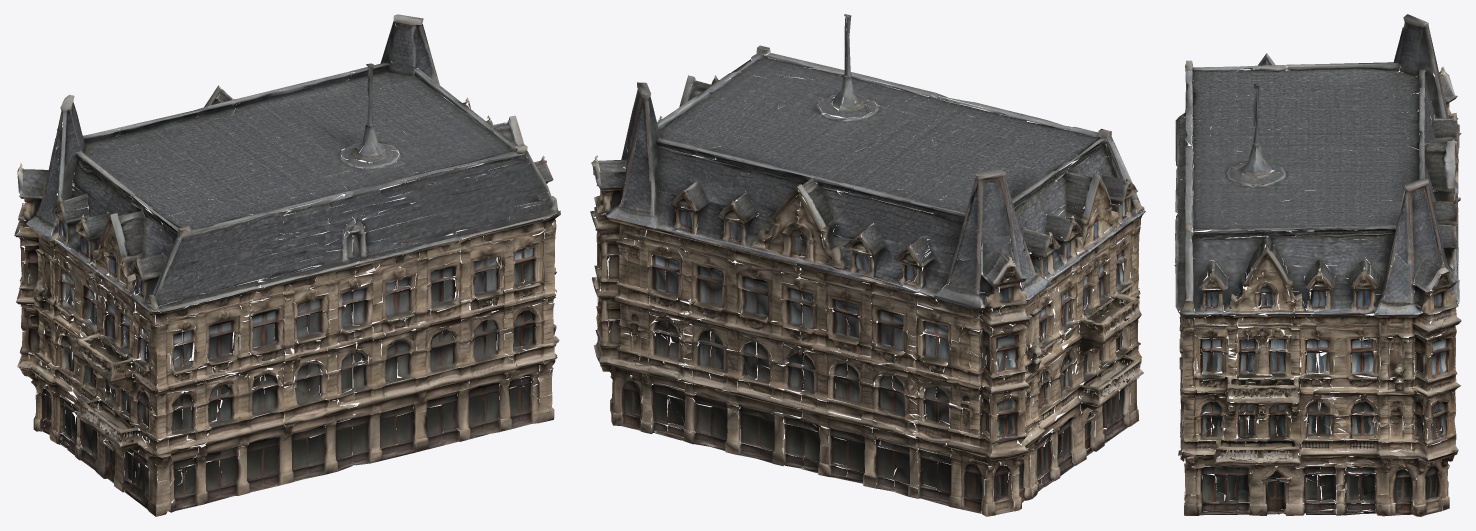
File: eckhaus32.glb
The picture shows the model from 3 angles, left to right: view 1: azimuth 30°, elevation 25°; view 2: azimuth 150°, elevation 25°; view 3: azimuth 270°, elevation 25°; orthographic projection. The views are drawn at different scales.
Visible parts, largest first — view 1: tripo_node_92e6e134-a9f3-425e-b006-a0dd317af142; view 2: tripo_node_92e6e134-a9f3-425e-b006-a0dd317af142; view 3: tripo_node_92e6e134-a9f3-425e-b006-a0dd317af142.
Part boxes in pixels (x1,y1,x2,y2): tripo_node_92e6e134-a9f3-425e-b006-a0dd317af142: (14, 14, 560, 516); tripo_node_92e6e134-a9f3-425e-b006-a0dd317af142: (590, 14, 1145, 516); tripo_node_92e6e134-a9f3-425e-b006-a0dd317af142: (1174, 14, 1461, 516).
Bounding box in the file's own units: 0.9833 × 0.7666 × 0.5538.
1 material, 1 textured.
